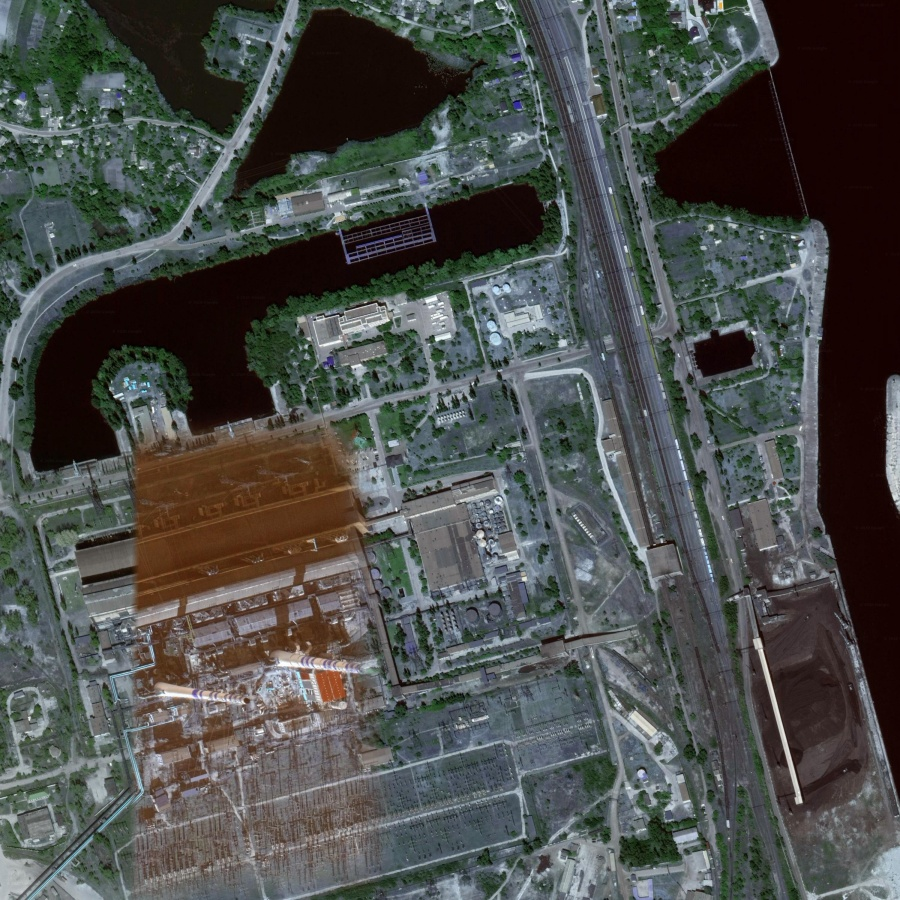PowerPlant: (99, 523, 439, 792)
